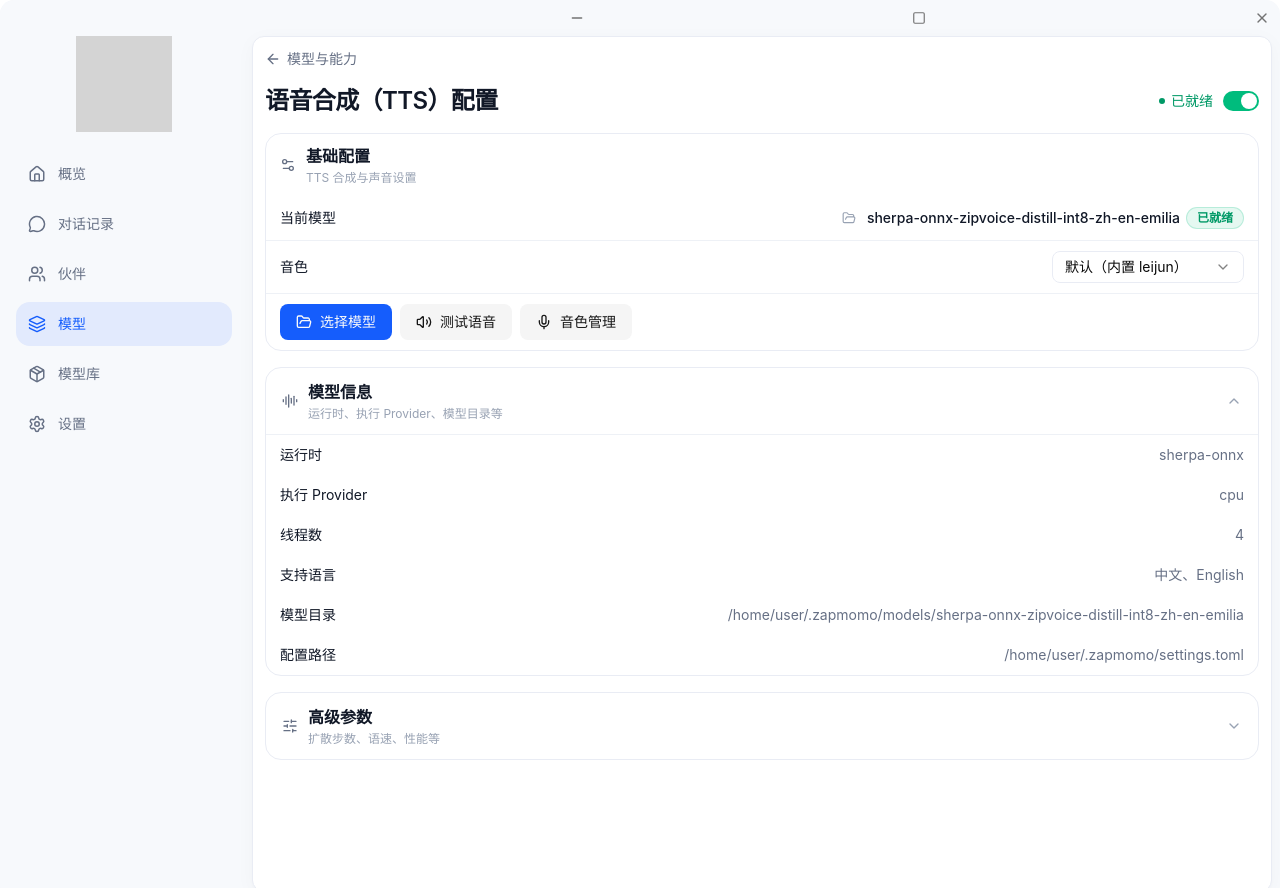
Test case: TtsPage（语音合成 TTS） › TestDialog 语速初始化用高级配置的默认语速
This screenshot has width=1280, height=888.
Click the button "测试语音": {"x": 456, "y": 322} [400,304,512,340]
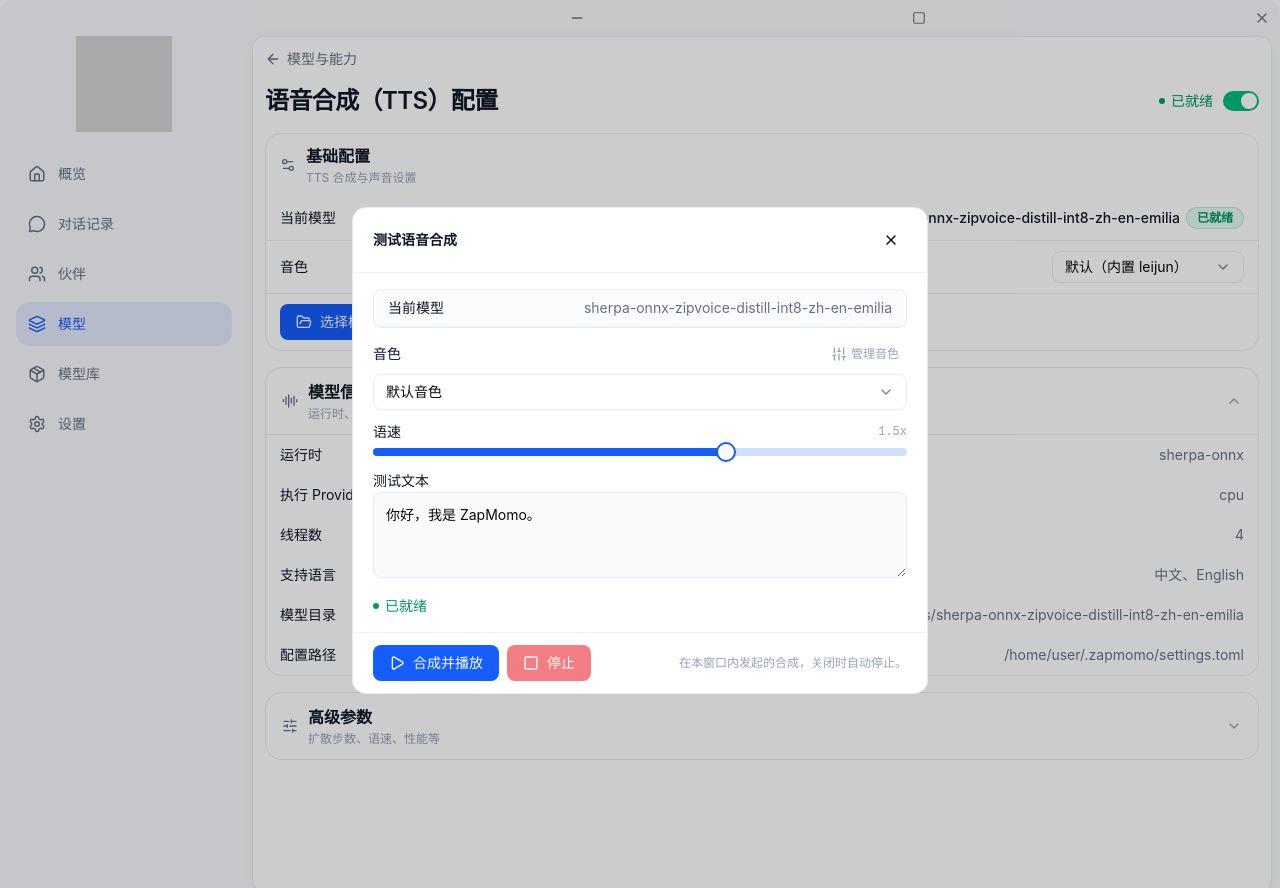
Expected: the text "1.5x" is shown, [878,424,907,440]
